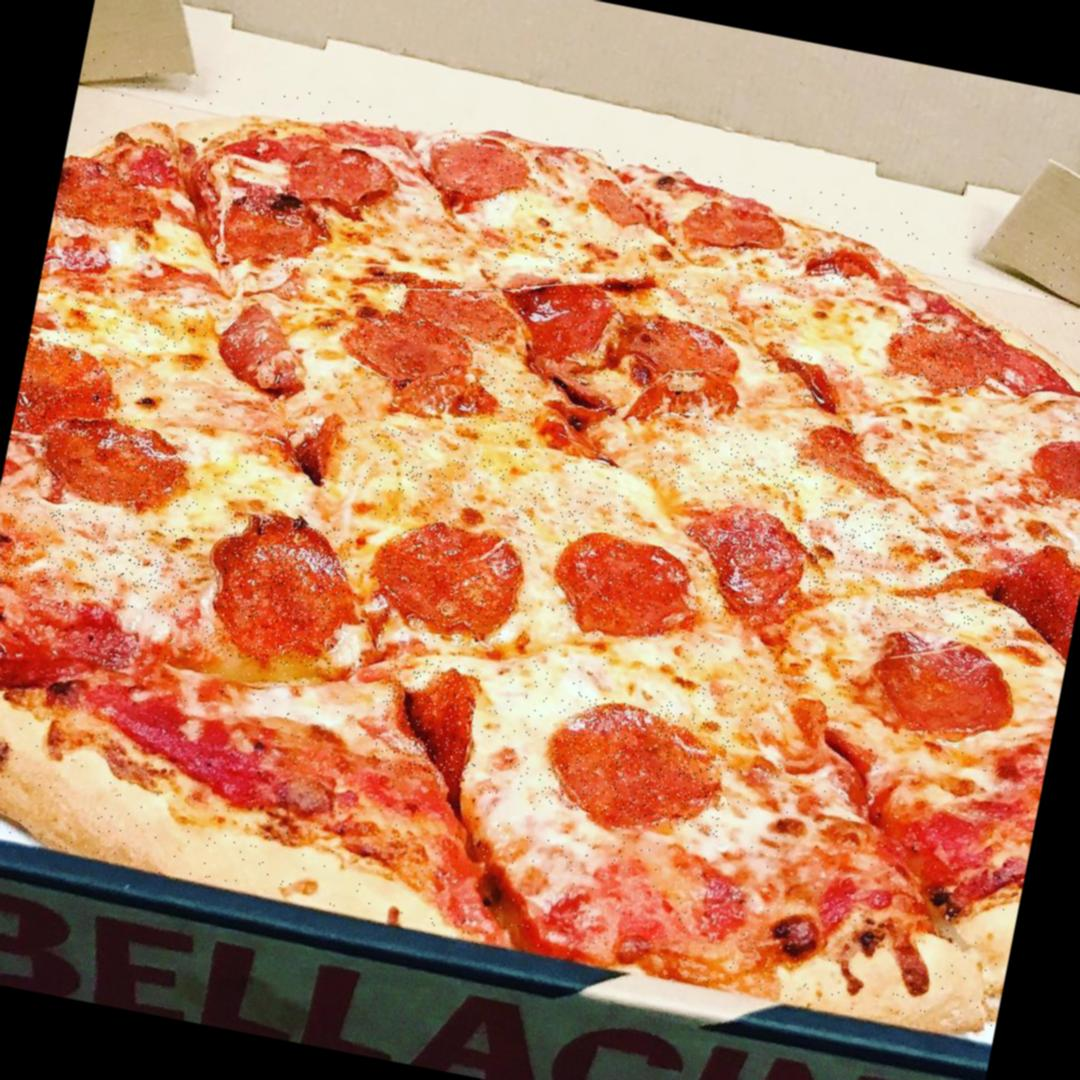Cheese: (338, 417, 650, 548), (533, 224, 819, 341), (798, 497, 1002, 640), (0, 491, 208, 621), (182, 386, 348, 524), (38, 267, 223, 379), (498, 612, 690, 711), (688, 632, 858, 738), (839, 373, 1019, 465), (650, 418, 812, 513), (351, 201, 536, 282), (460, 667, 566, 804), (885, 447, 1019, 534), (112, 344, 220, 440), (798, 292, 900, 366), (461, 363, 543, 449)
Pepperoni: (536, 690, 740, 838), (203, 508, 357, 676), (368, 506, 540, 646), (857, 624, 1022, 758), (542, 522, 713, 641), (33, 410, 204, 518), (612, 302, 742, 436), (371, 654, 499, 788), (338, 317, 486, 430), (691, 501, 814, 635), (0, 585, 133, 708), (381, 270, 535, 366), (9, 341, 126, 462), (508, 265, 625, 377), (882, 308, 1013, 406), (214, 177, 338, 279), (206, 296, 327, 399), (986, 537, 1080, 661), (430, 131, 543, 220), (286, 137, 406, 219), (791, 416, 910, 496), (57, 156, 160, 242), (1011, 404, 1080, 522), (682, 192, 790, 266), (760, 343, 848, 409), (586, 178, 674, 242), (531, 392, 613, 458), (797, 241, 883, 298)
Pizza: (0, 47, 1080, 1039)
